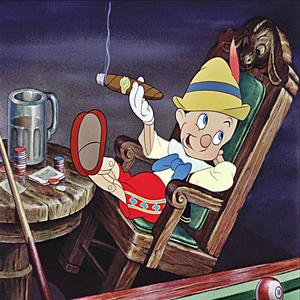cigarette: (92, 68, 166, 104)
